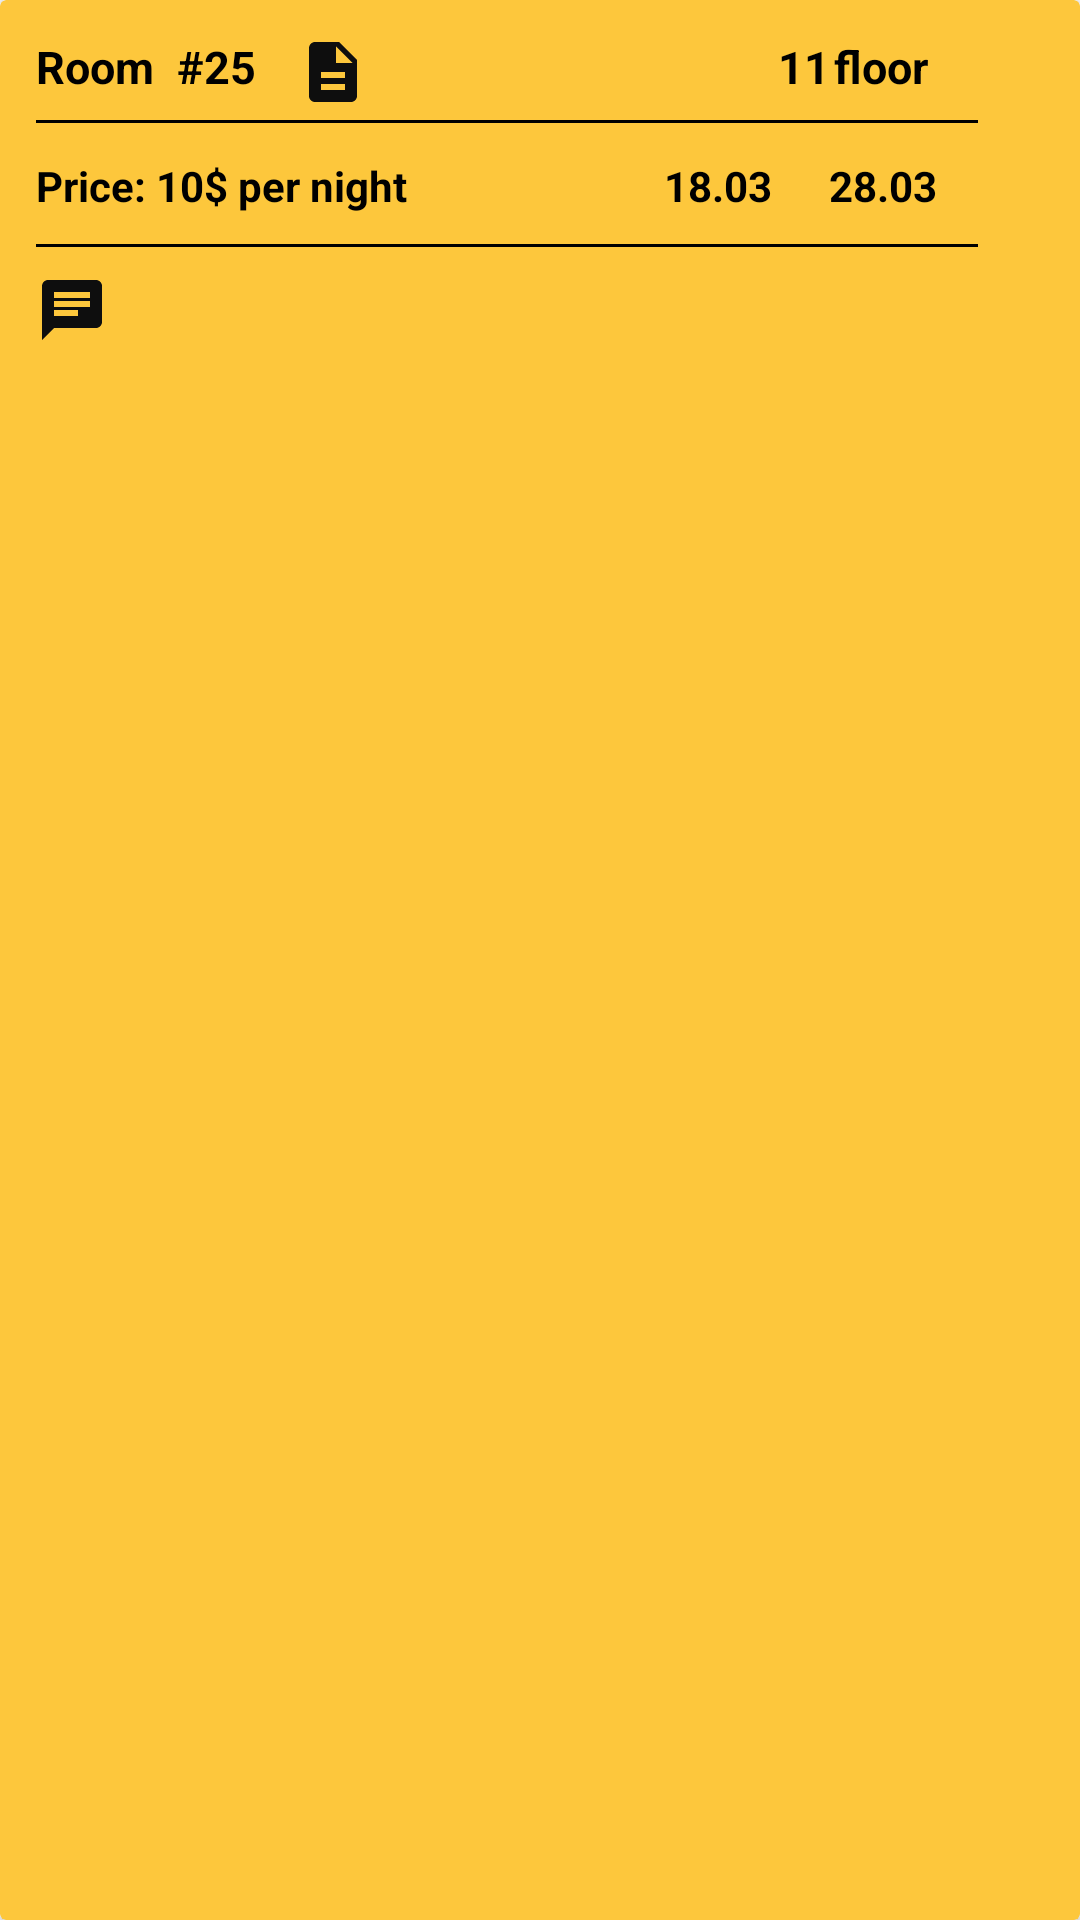

Icon bounding boxes for this 1080x1920 phone screenshot, format Rect(x1, y1, x2, y2):
description: Rect(309, 42, 357, 102)
message: Rect(42, 280, 102, 340)
